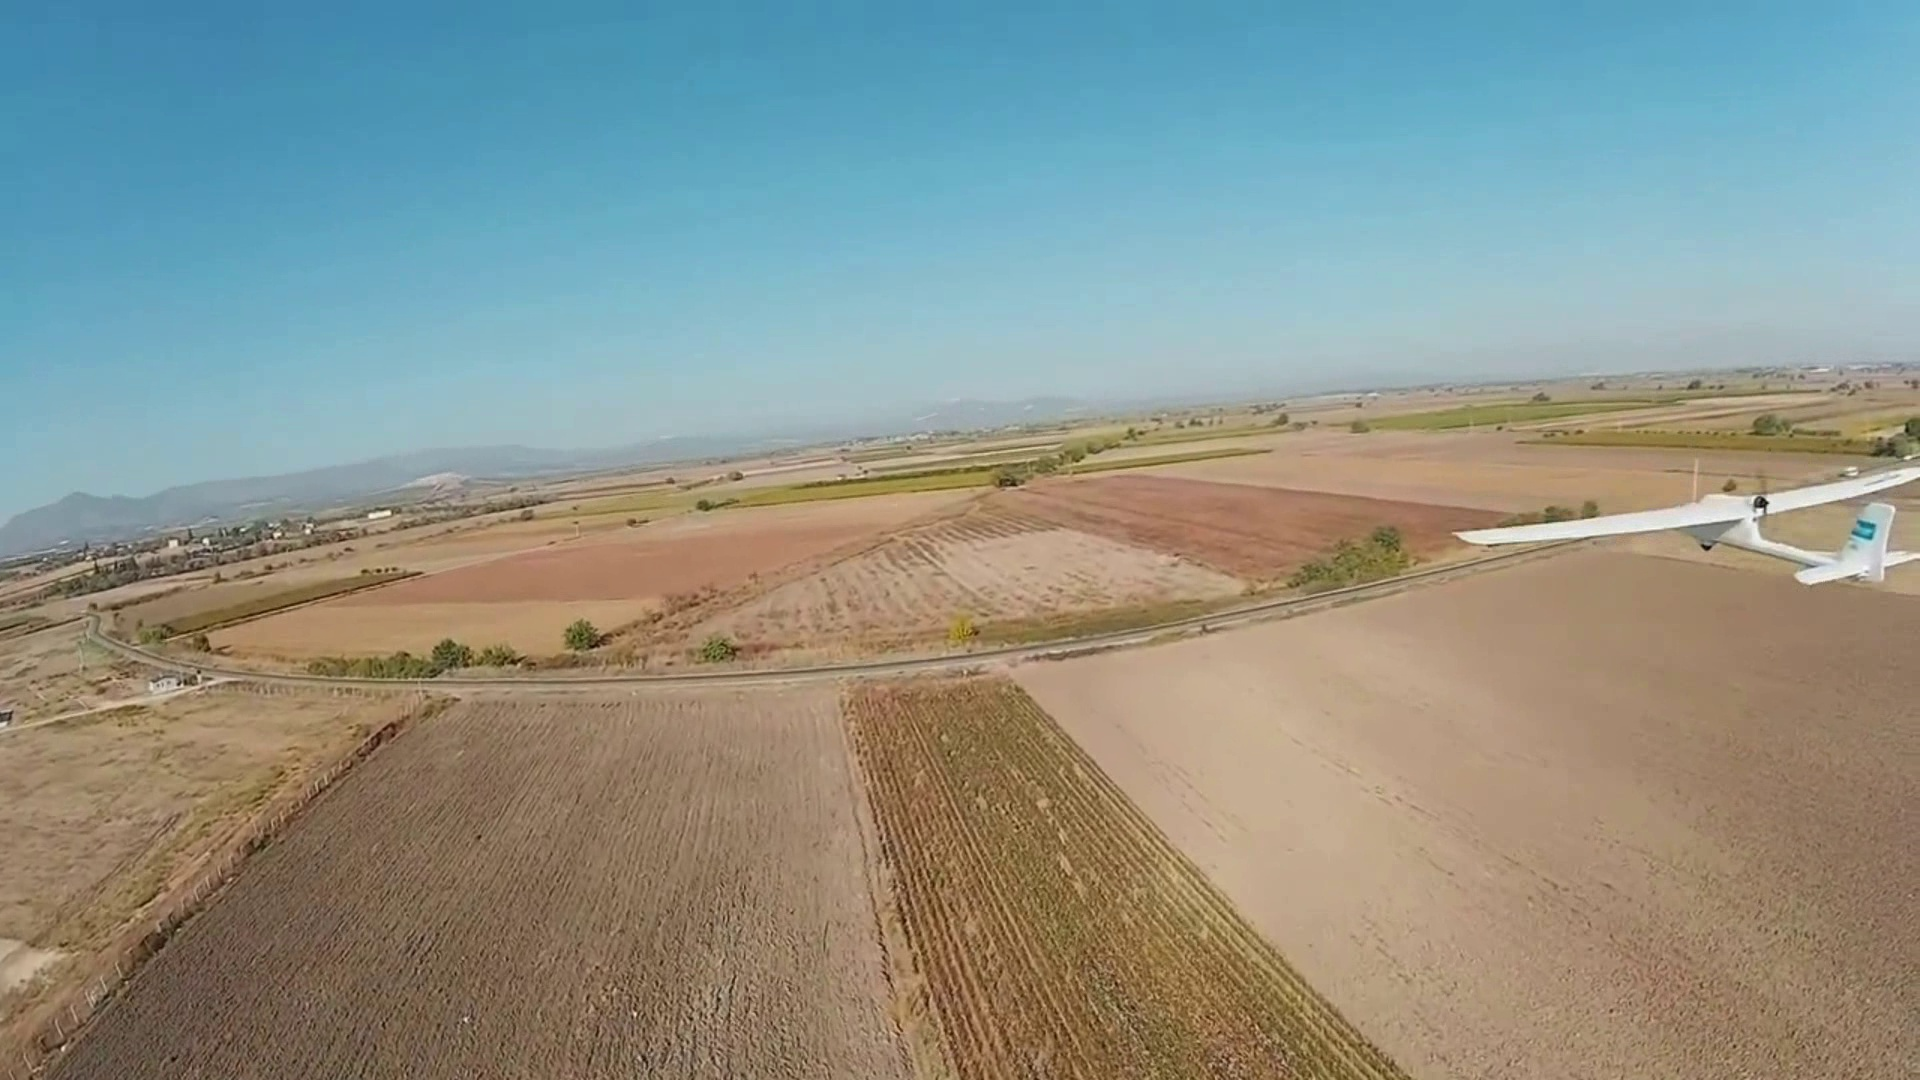airplane: (1451, 462, 1917, 572)
